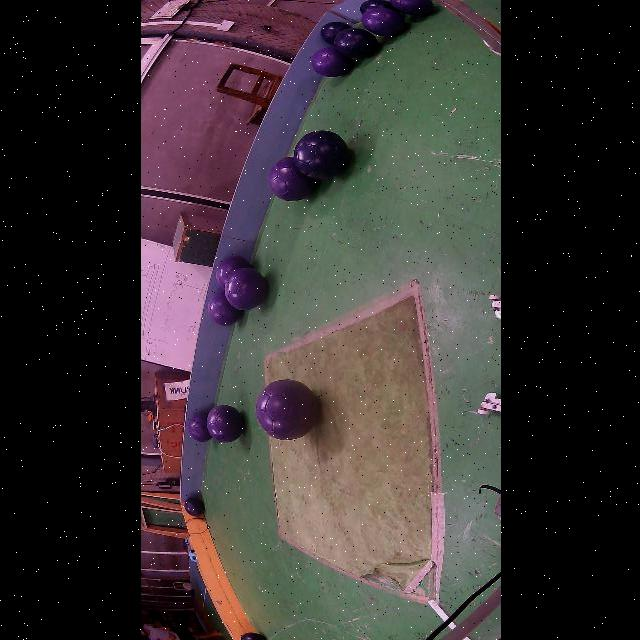B: (292, 130, 348, 179), (334, 29, 376, 59), (320, 21, 350, 45), (359, 0, 395, 14), (184, 498, 204, 516)
P: (255, 379, 318, 440), (268, 158, 316, 201), (224, 268, 266, 310), (205, 405, 242, 442), (360, 8, 404, 36), (310, 48, 350, 78), (215, 256, 251, 289), (208, 291, 241, 326), (389, 0, 432, 15), (188, 414, 211, 442)
